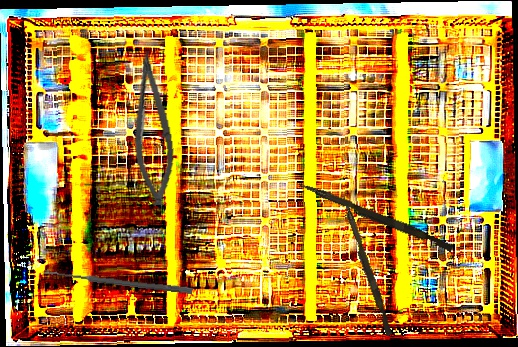Micro Scissor: (120, 49, 182, 208)
Pusher: (297, 182, 455, 252), (335, 193, 397, 337)
Surgical Spoon: (43, 268, 193, 295)
